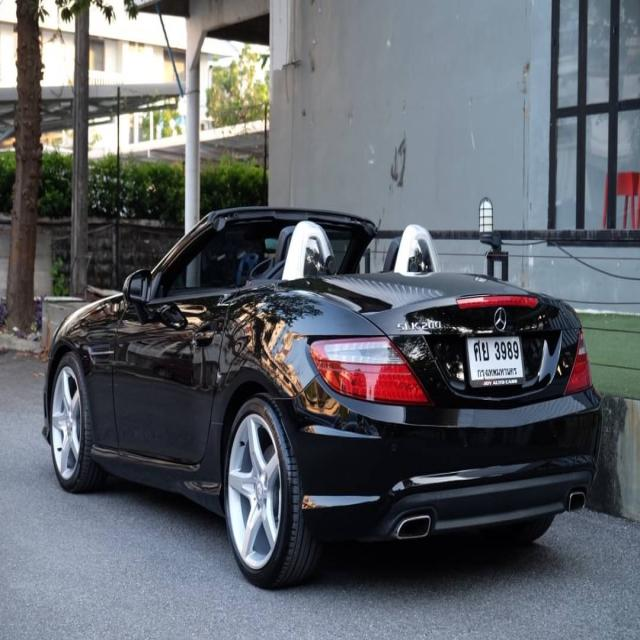license_plate: (462, 324, 533, 393)
